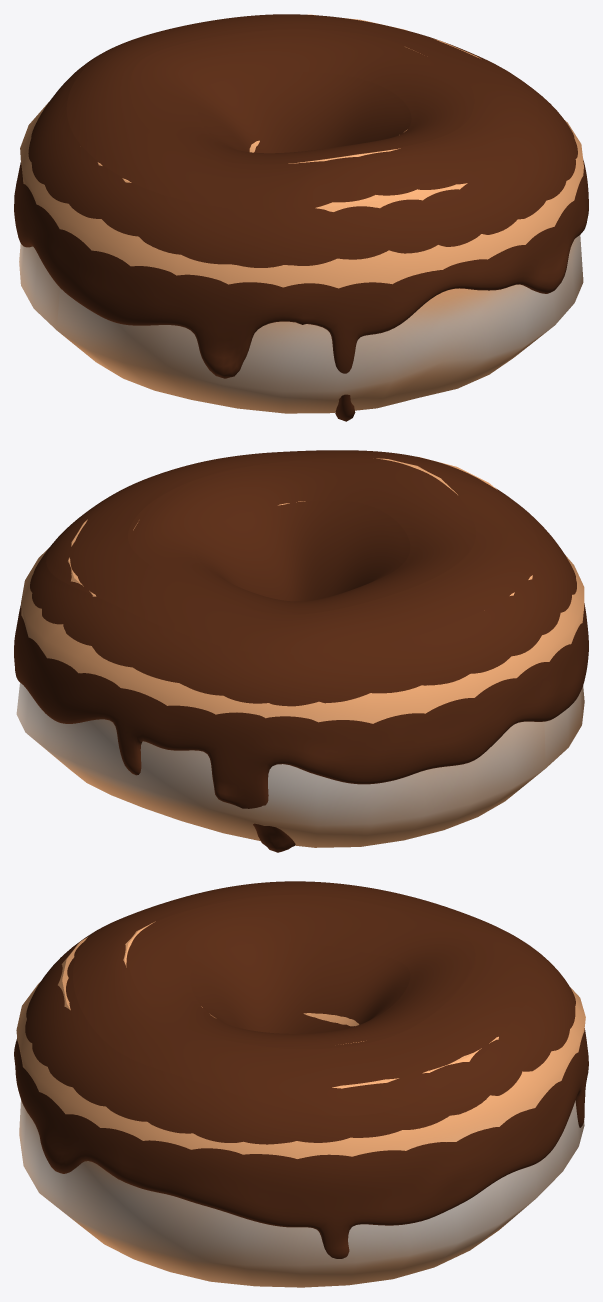
Rendered from donuts.glb.
3 renders of one model, top to bottom at view 1: azimuth 30°, elevation 25°; view 2: azimuth 150°, elevation 25°; view 3: azimuth 270°, elevation 25°, orthographic.
Visible parts, largest first — view 1: icing, donut; view 2: icing, donut; view 3: icing, donut.
Boxes of the visible parts, x1,y1,x2,y2 form: icing: (14,14,588,421); donut: (19,14,583,413); icing: (14,450,588,852); donut: (16,456,584,847); icing: (14,881,588,1258); donut: (16,921,585,1287).
Bounding box in the file's own units: 1.65 × 0.7746 × 1.64.
Materials: 2 (1 with a texture image).
